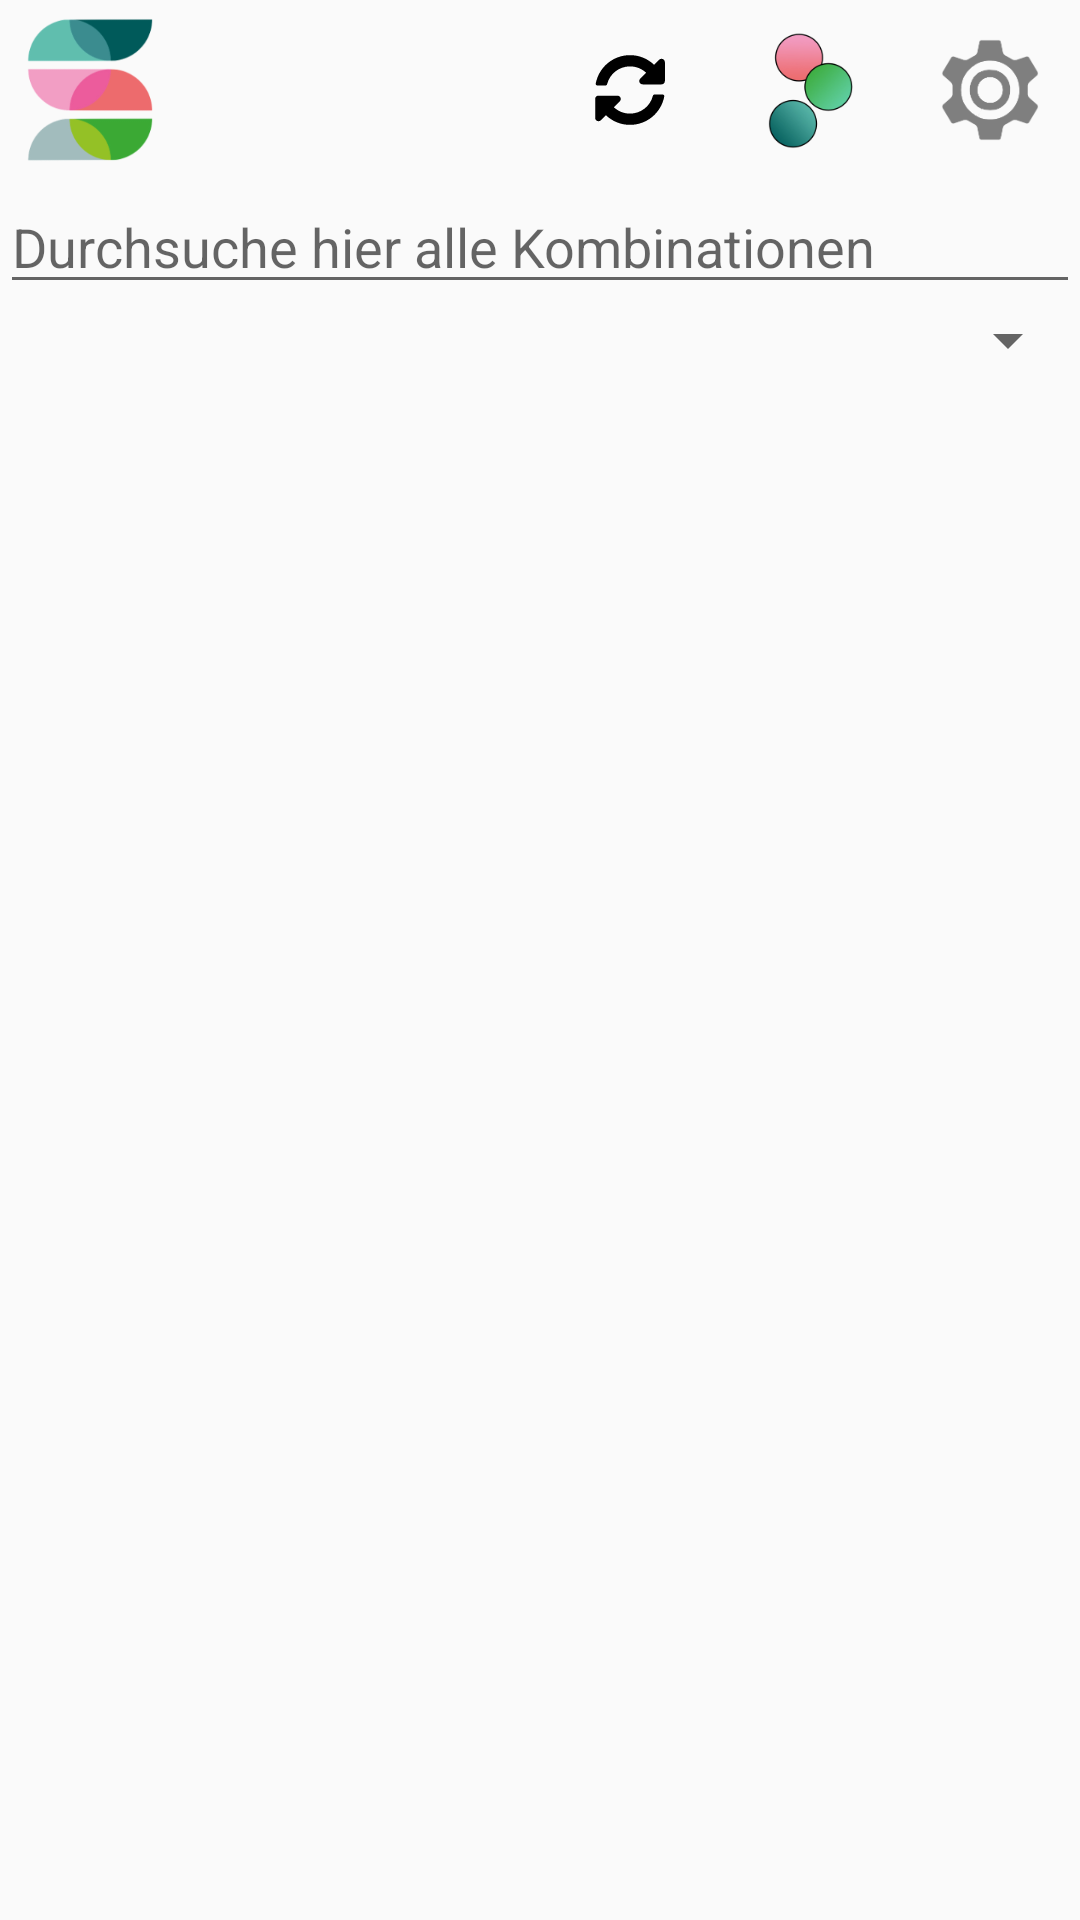

Point at icon controls on the screen. Image size 1080px×1920px, points as [x,y].
settings: [990,90]
sync: [630,90]
